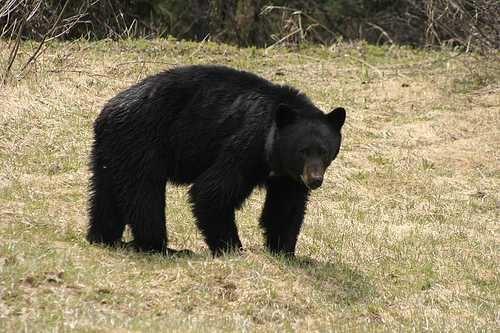bear: (226, 92, 355, 220)
